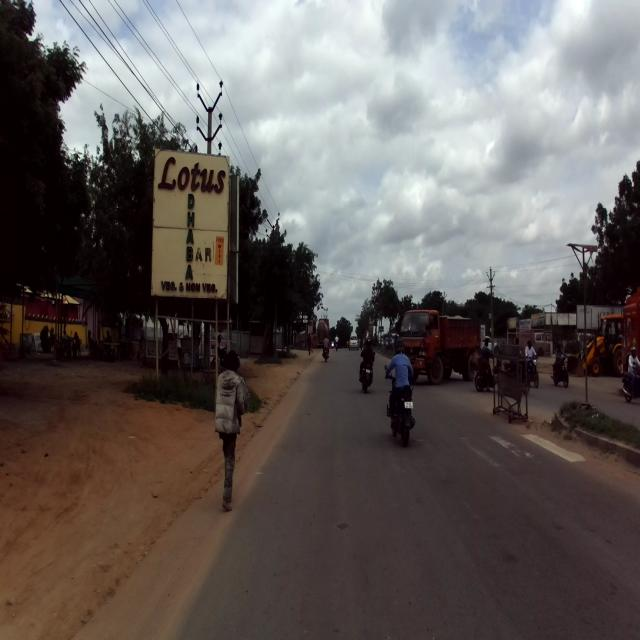motorcycle_Yamaha: (383, 363, 416, 449)
truck: (394, 305, 483, 391)
